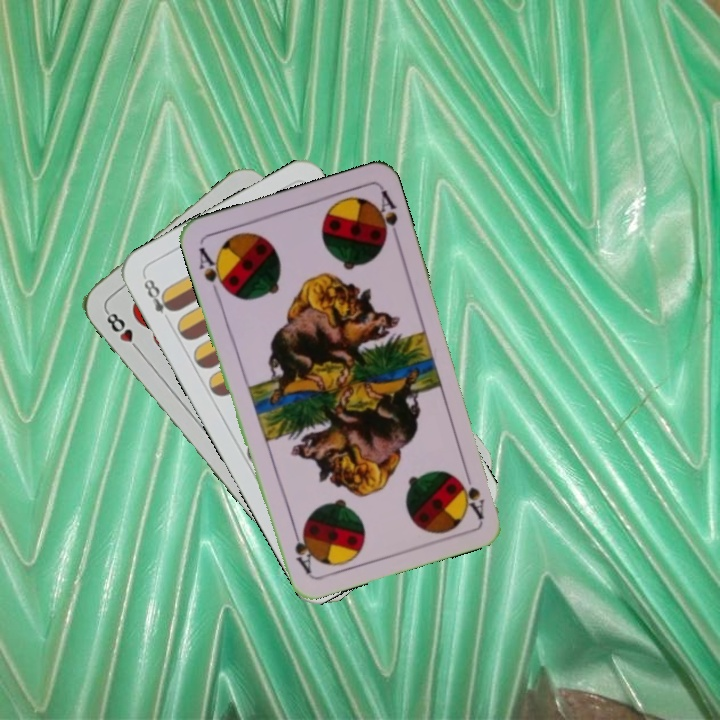E8: (139, 272, 178, 327)
H8: (101, 306, 144, 355)
SA: (194, 242, 231, 299), (455, 463, 488, 521)
